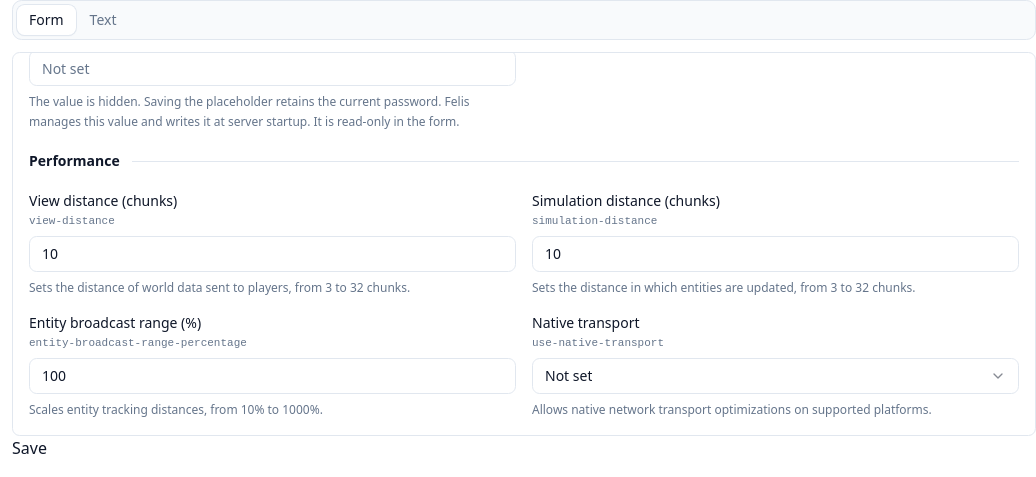
Test case: server.properties form › blocks invalid simulation_distance=33 and accepts 32
(page scrolled)
Replace the text in the field labelled "Simulation distance (chunks)" with "33" at point(776, 254), box [532,236,1019,272]
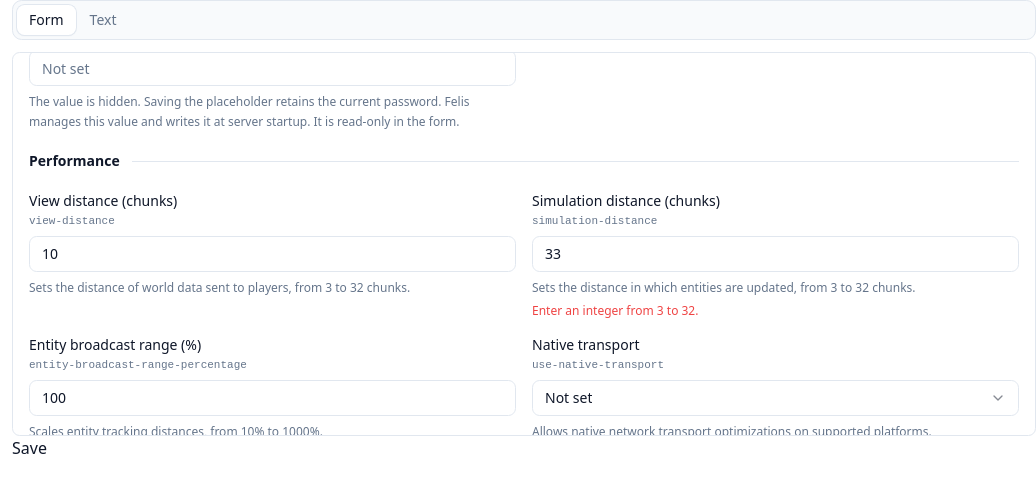
expect the button "Save" is disabled: met, box [12,436,47,460]
expect the field labelled "Simulation distance (chunks)" is marked as invalid: met
Press s in the field labelled "Simulation distance (chunks)", box [532,236,1019,272]
Replace the text in the field labelled "Simulation distance (chunks)" with "32" at point(776, 254), box [532,236,1019,272]
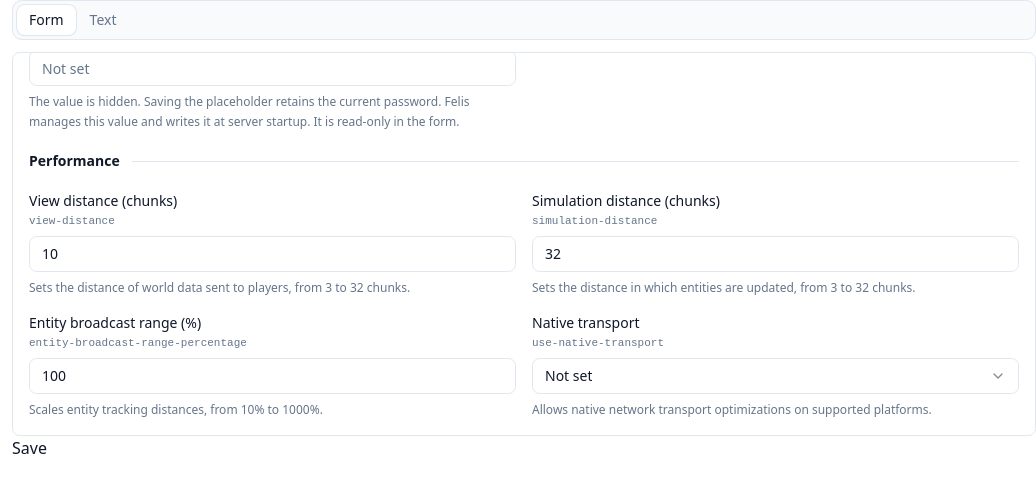
expect the button "Save" is enabled: met, box [12,436,47,460]
expect the message "Enter an integer from 3 to 32." is gone: met
